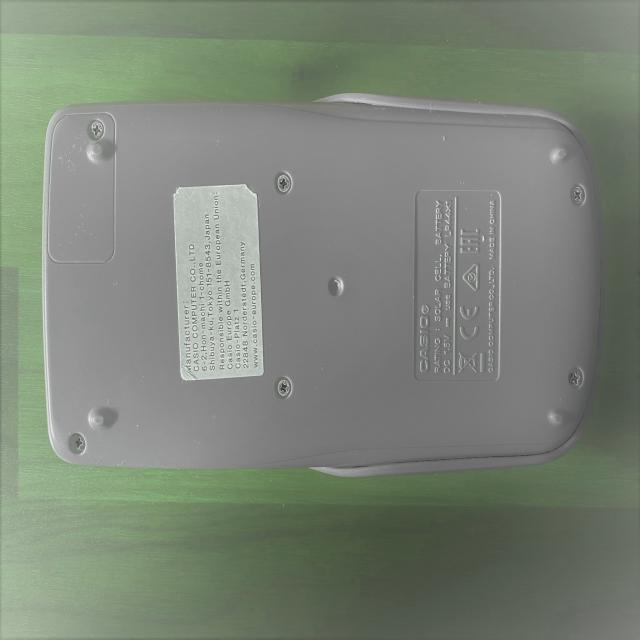PhillipsScrewHead: (276, 378, 292, 398), (70, 433, 86, 453), (277, 174, 291, 193), (90, 121, 103, 140), (571, 186, 585, 203), (569, 371, 583, 386)
